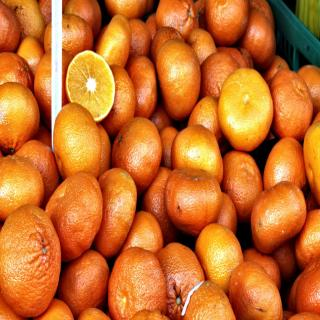Orange: (0, 204, 60, 317), (46, 175, 108, 258), (112, 246, 166, 320), (112, 114, 164, 190), (155, 39, 203, 120), (95, 168, 138, 258), (222, 74, 274, 146), (156, 243, 204, 320), (250, 182, 304, 250), (168, 165, 224, 229), (60, 246, 110, 314), (67, 52, 116, 117), (172, 123, 221, 181), (34, 49, 71, 124), (1, 155, 45, 218), (222, 153, 264, 219), (230, 264, 278, 320), (15, 139, 58, 198), (104, 64, 138, 138), (0, 81, 37, 145), (262, 137, 302, 190), (204, 0, 250, 46), (200, 51, 237, 106), (42, 14, 92, 54), (182, 282, 232, 320), (127, 54, 156, 117), (1, 0, 43, 42), (248, 8, 275, 64), (296, 207, 320, 270), (144, 171, 166, 232), (154, 0, 194, 33), (296, 259, 320, 310), (187, 97, 220, 134), (306, 117, 320, 199), (102, 14, 126, 61), (1, 51, 32, 86), (128, 15, 154, 56), (68, 0, 99, 34), (0, 2, 20, 52), (216, 192, 238, 237), (188, 26, 214, 61), (17, 34, 42, 70), (160, 127, 180, 170), (40, 296, 74, 320), (105, 0, 144, 18), (132, 304, 170, 320), (220, 49, 248, 68), (252, 0, 272, 24), (78, 308, 112, 320), (145, 16, 157, 46), (289, 310, 319, 320), (38, 0, 54, 18), (0, 300, 15, 319), (156, 111, 168, 127)
